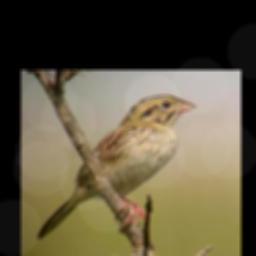Sparrow: (35, 94, 197, 242)
